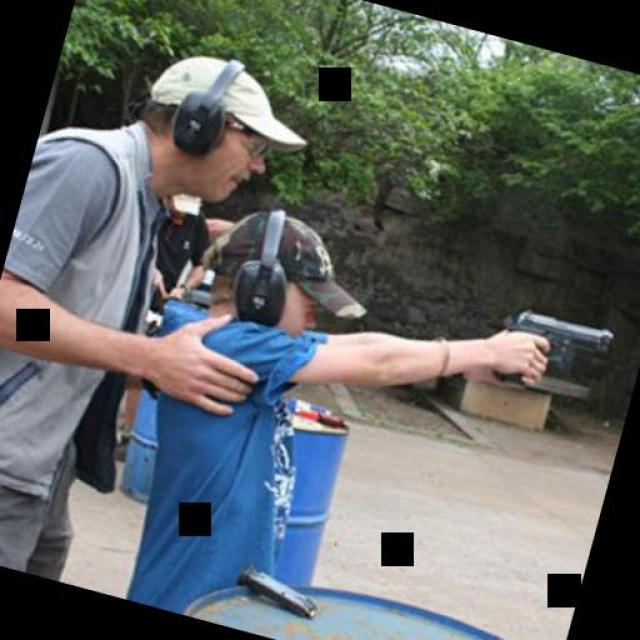gun: (485, 301, 614, 405)
